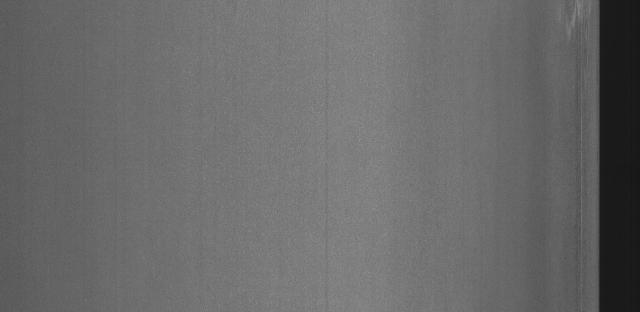silk_spot: (553, 0, 598, 72)
